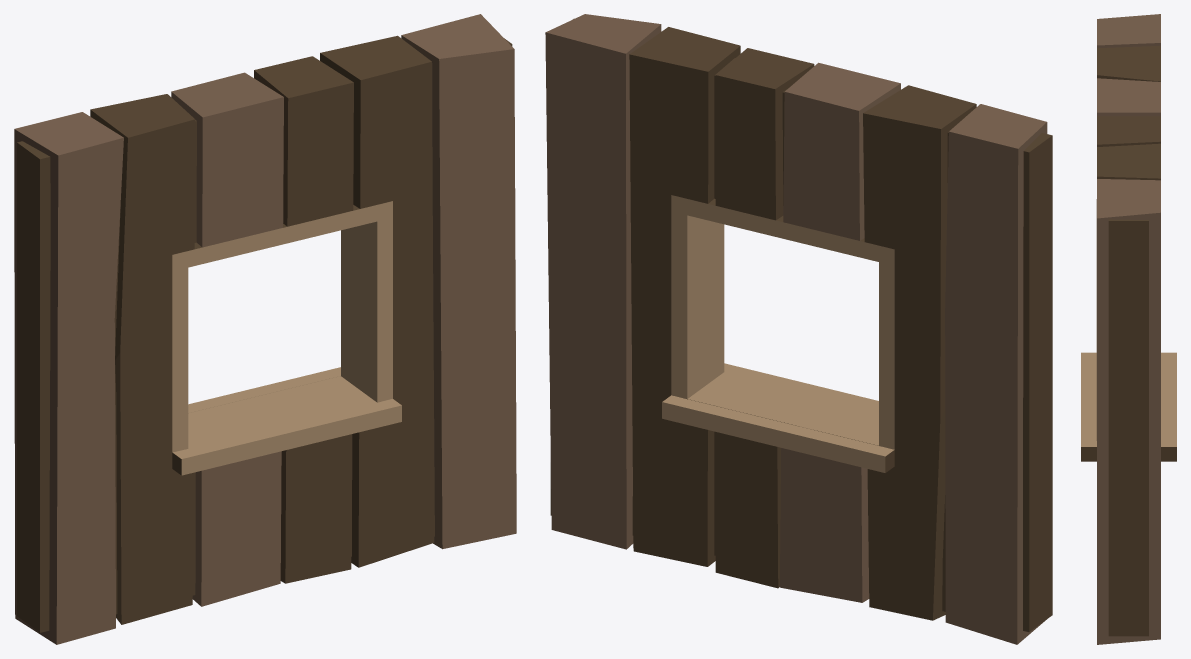
File: enchantedforest_wall_wood_window_1.fbx
3 renders of one model, left to right at view 1: azimuth 30°, elevation 25°; view 2: azimuth 150°, elevation 25°; view 3: azimuth 270°, elevation 25°, orthographic. The views are drawn at different scales.
Visible parts, largest first — view 1: Cube.010; view 2: Cube.010; view 3: Cube.010.
Part boxes in pixels (x1=…): Cube.010: x1=14, y1=14, x2=516, y2=644; Cube.010: x1=545, y1=14, x2=1052, y2=644; Cube.010: x1=1081, y1=14, x2=1176, y2=644.
Bounding box in the file's own units: 3 × 3 × 0.6.
